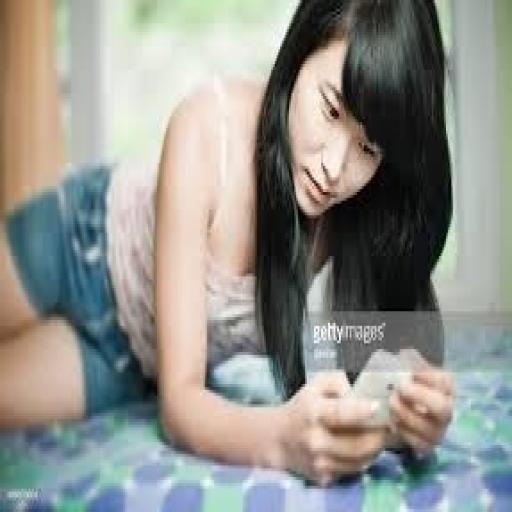texting: (2, 0, 456, 489)
